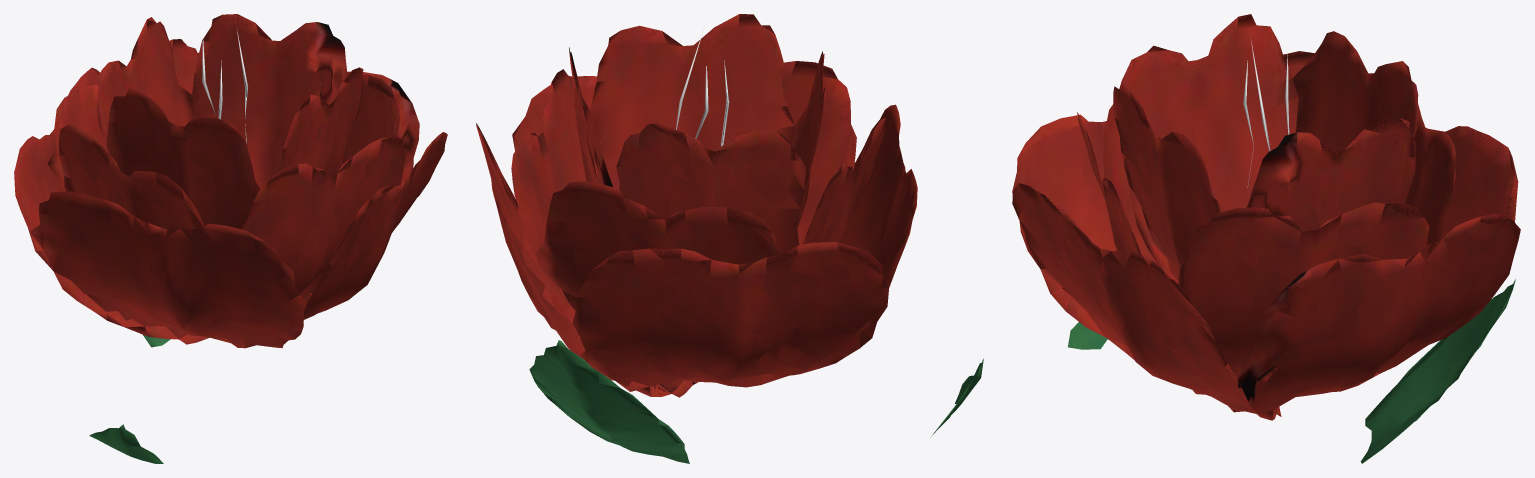
The picture shows the model from 3 angles, left to right: view 1: azimuth 30°, elevation 25°; view 2: azimuth 150°, elevation 25°; view 3: azimuth 270°, elevation 25°; orthographic projection. The views are drawn at different scales.
Visible parts, largest first — view 1: 7393842c; view 2: 7393842c; view 3: 7393842c.
Part boxes in pixels (<box>): 7393842c: <box>14,14,447,463</box>; 7393842c: <box>476,14,983,463</box>; 7393842c: <box>1012,14,1520,463</box>.
Bounding box in the file's own units: 0.0774 × 0.068 × 0.0772.
Materials: 5 (2 with a texture image).
